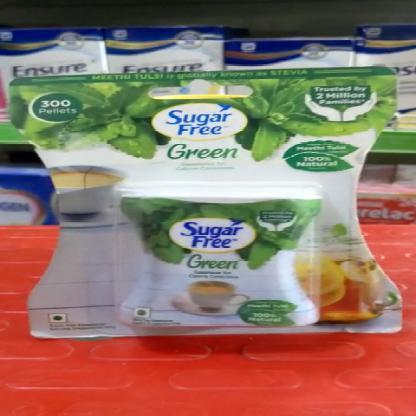SUGAR FREE GRN 300 PELLET: (31, 66, 400, 334)
